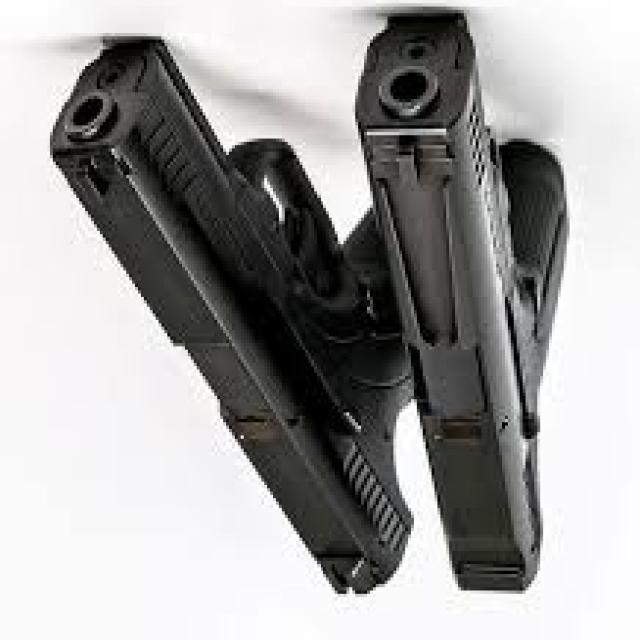Gun: (64, 19, 578, 604)
